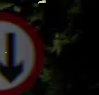Two way: (0, 13, 43, 90)
